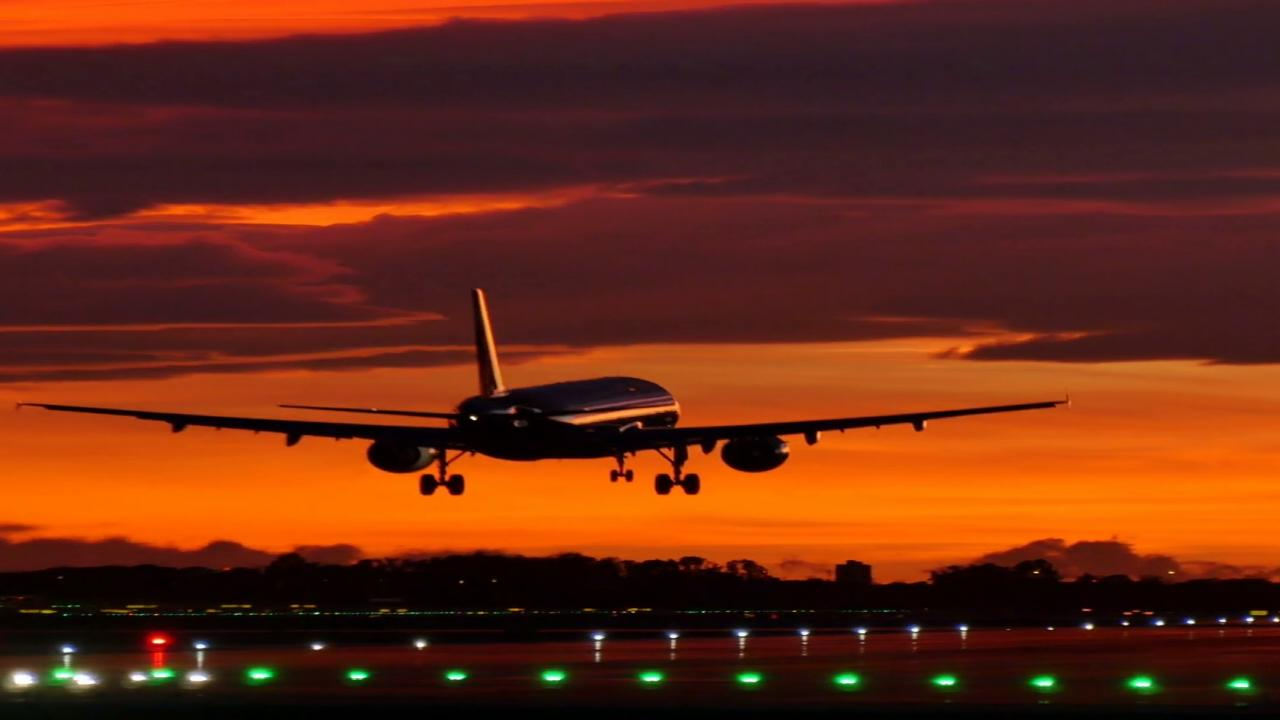Airplane: (12, 270, 1095, 502)
